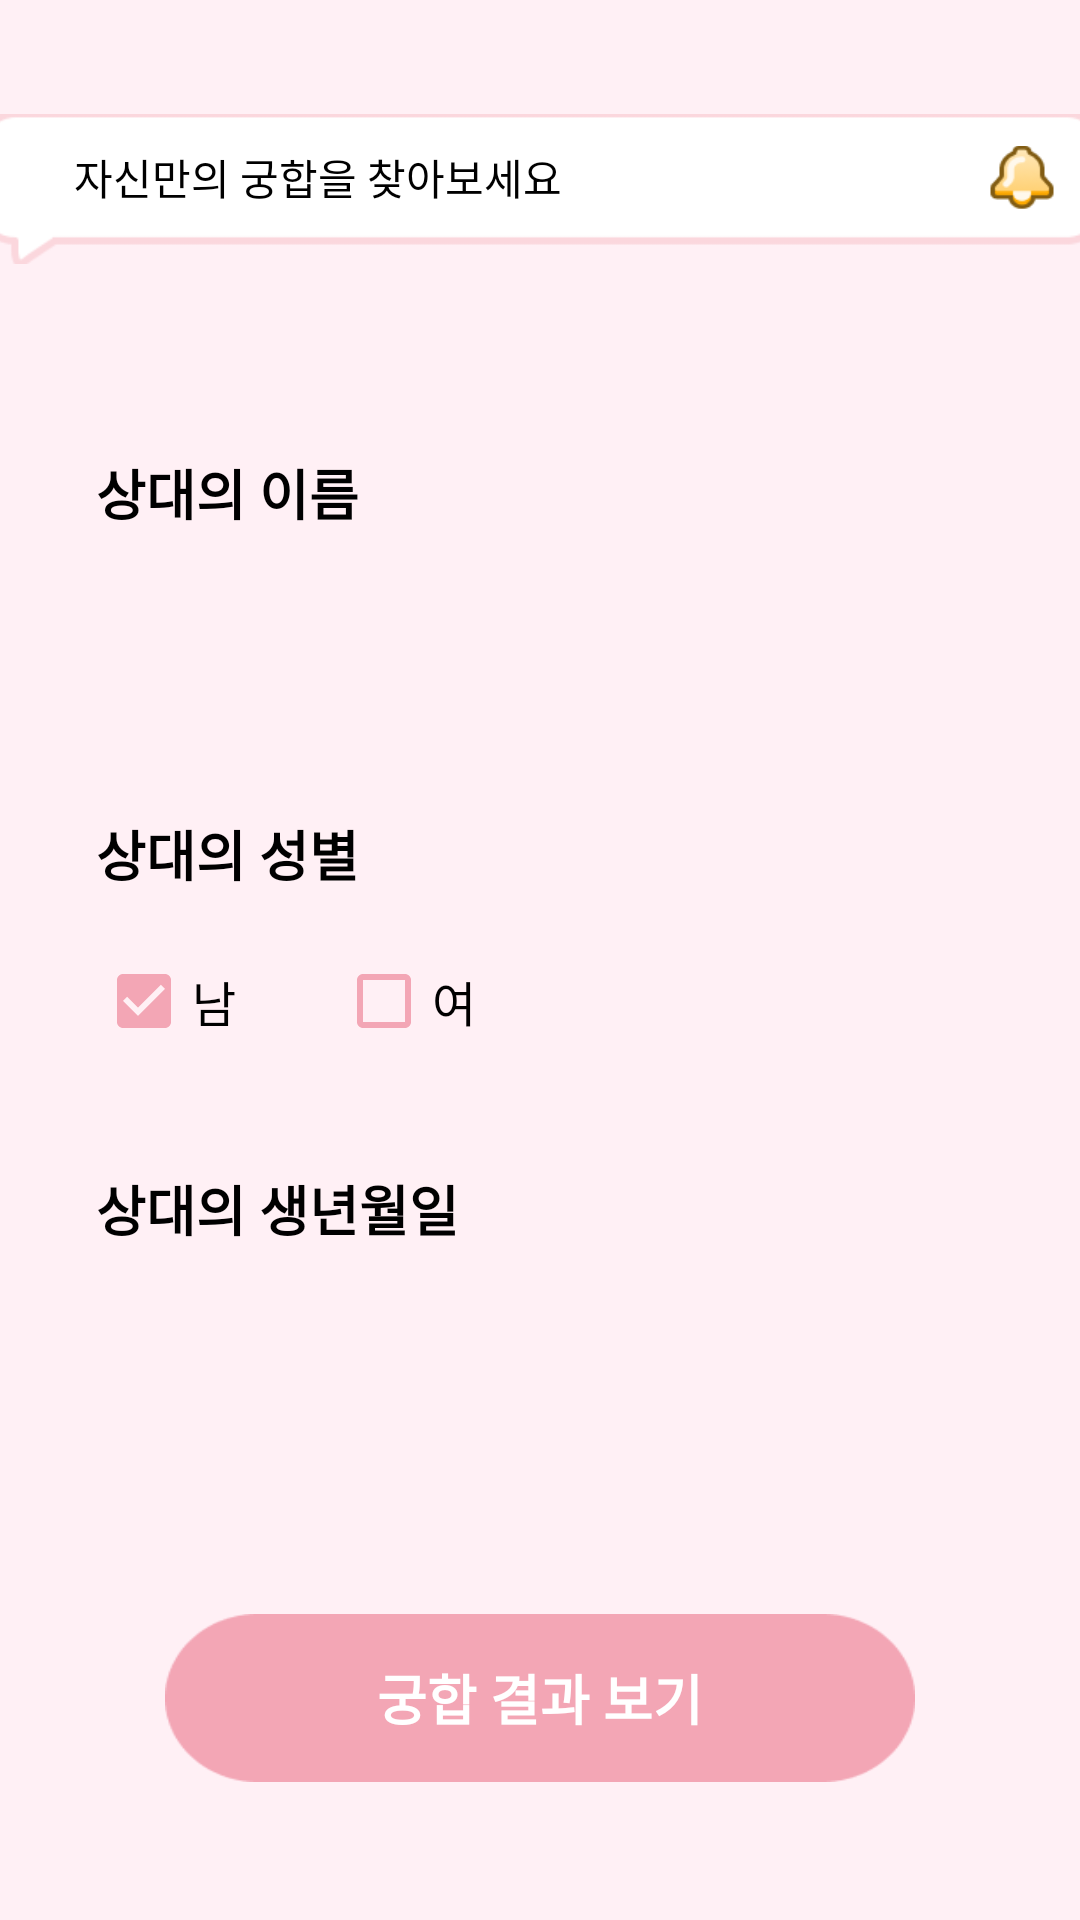

Icons on this 1080px×1920px Android screen, each with the point to tap as point (x, y):
알림 아이콘: point (1022, 177)
